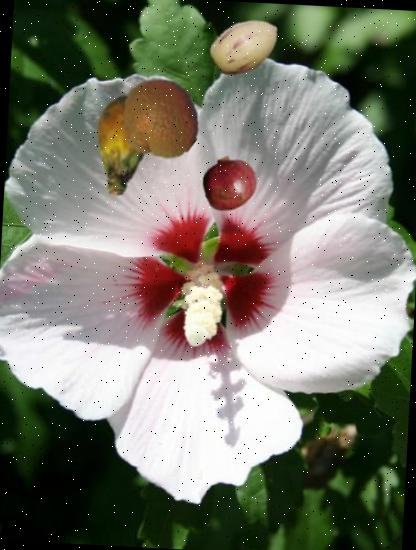Cactus: (68, 93, 174, 199)
Mandarine: (117, 76, 204, 162)
Pepino: (207, 8, 285, 86)
Pomegranate: (200, 153, 260, 212)
